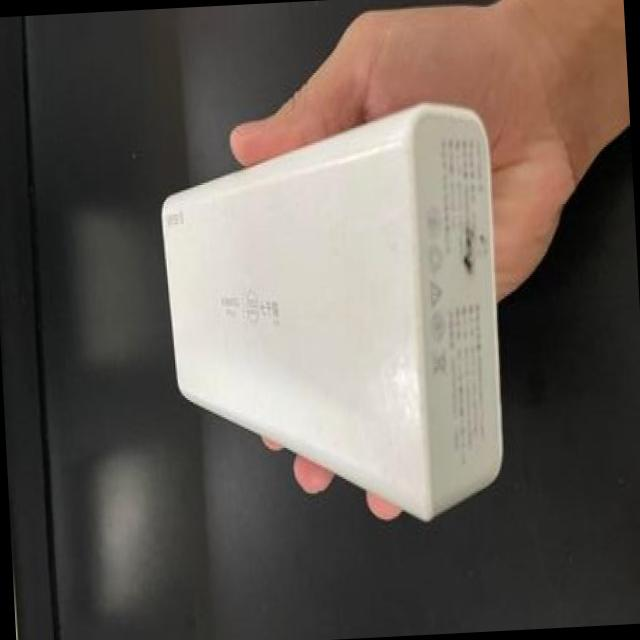power_bank: (149, 88, 516, 540)
